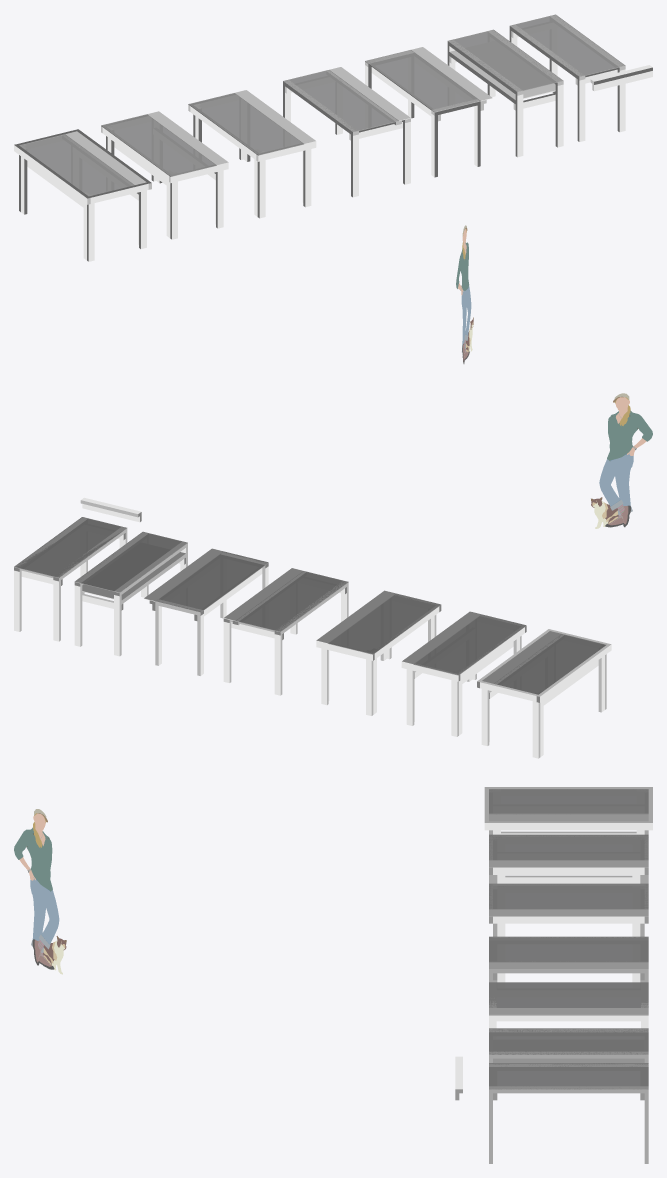
3 views of the same model, one above another, from view 1: azimuth 30°, elevation 25°; view 2: azimuth 150°, elevation 25°; view 3: azimuth 270°, elevation 25° (orthographic). The views are drawn at different scales.
Visible parts, largest first — view 1: group_14, group_41, group_0, group_48, group_60, group_30, group_80, Heather, group_47, group_59, group_33, group_85 (+13 smaller); view 2: Heather, group_41, group_14, group_30, group_48, group_0, group_60, group_80, group_59, group_33, group_47, group_85 (+9 smaller); view 3: group_0, group_14, group_41, group_48, group_60, group_30, group_80, Heather, group_83, group_33, group_43, group_47 (+11 smaller).
Boxes of the visible parts, x1=… form: group_14: x1=447, y1=29, x2=563, y2=92; group_41: x1=283, y1=70, x2=398, y2=132; group_0: x1=510, y1=14, x2=625, y2=77; group_48: x1=188, y1=93, x2=303, y2=155; group_60: x1=101, y1=114, x2=216, y2=176; group_30: x1=365, y1=50, x2=480, y2=112; group_80: x1=19, y1=134, x2=134, y2=196; Heather: x1=456, y1=225, x2=473, y2=363; group_47: x1=235, y1=90, x2=316, y2=144; group_59: x1=147, y1=111, x2=228, y2=165; group_33: x1=411, y1=47, x2=492, y2=101; group_85: x1=65, y1=131, x2=146, y2=184; Heather: x1=591, y1=393, x2=652, y2=528; group_41: x1=235, y1=571, x2=348, y2=632; group_14: x1=74, y1=531, x2=187, y2=592; group_30: x1=155, y1=551, x2=268, y2=612; group_48: x1=328, y1=593, x2=441, y2=654; group_0: x1=14, y1=517, x2=126, y2=577; group_60: x1=413, y1=614, x2=526, y2=675; group_80: x1=494, y1=634, x2=606, y2=694; group_59: x1=401, y1=611, x2=481, y2=664; group_33: x1=143, y1=548, x2=223, y2=601; group_47: x1=316, y1=590, x2=395, y2=643; group_85: x1=482, y1=631, x2=561, y2=683; group_0: x1=489, y1=1063, x2=648, y2=1089; group_14: x1=489, y1=1028, x2=648, y2=1054; group_41: x1=489, y1=936, x2=648, y2=962; group_48: x1=489, y1=883, x2=648, y2=909; group_60: x1=489, y1=834, x2=648, y2=860; group_30: x1=489, y1=982, x2=648, y2=1007; group_80: x1=489, y1=789, x2=648, y2=814; Heather: x1=14, y1=809, x2=66, y2=974; group_83: x1=484, y1=821, x2=652, y2=830; group_33: x1=489, y1=1008, x2=648, y2=1015; group_43: x1=489, y1=962, x2=648, y2=969; group_47: x1=489, y1=909, x2=648, y2=916.
Bounding box in the file's own units: 274 × 64.88 × 239.
